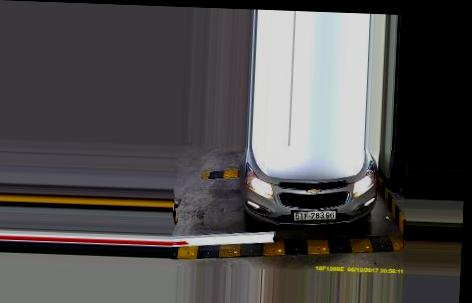License_Plate: (289, 208, 336, 221)
